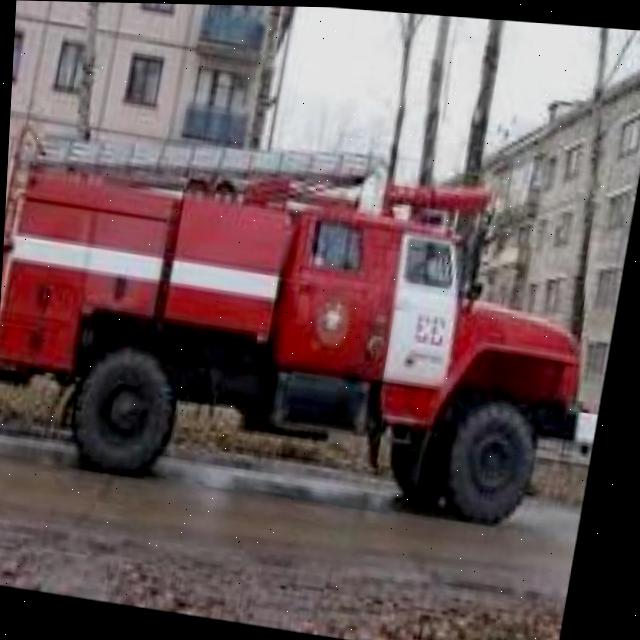emergency: (0, 124, 595, 528)
